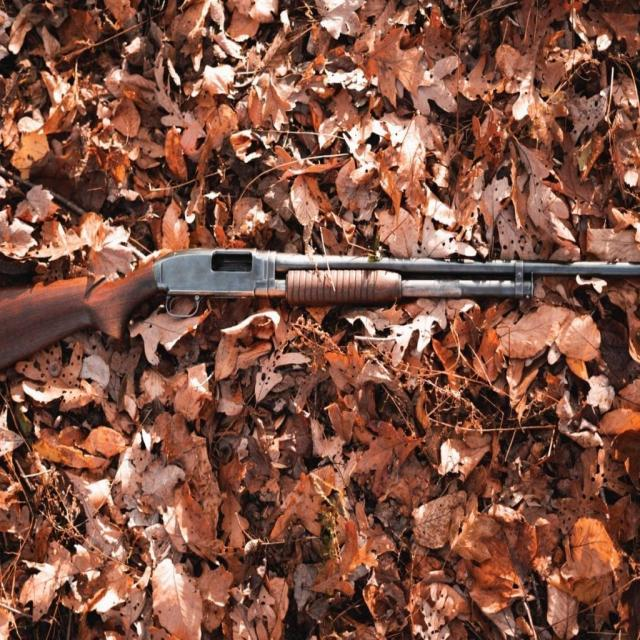ShotGun: (0, 248, 640, 372)
